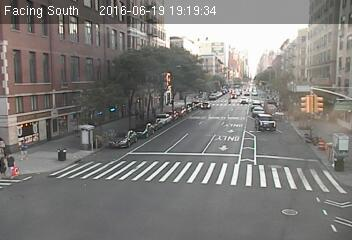neg: (83, 17, 105, 46), (93, 99, 113, 127), (139, 151, 159, 178), (89, 143, 109, 169), (184, 164, 204, 189), (254, 175, 273, 201), (256, 130, 273, 153), (295, 63, 312, 86), (185, 109, 200, 129), (214, 37, 229, 57), (271, 32, 285, 51), (25, 37, 39, 56), (106, 189, 118, 205), (119, 98, 128, 109), (54, 196, 60, 204), (310, 123, 315, 129)
pos: (10, 135, 30, 163), (1, 148, 20, 175)
